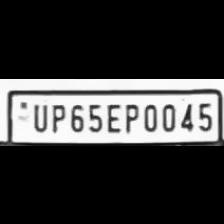0: (140, 100, 158, 132), (158, 99, 176, 130)
4: (176, 98, 194, 130)
5: (84, 100, 104, 132), (193, 98, 213, 130)
6: (66, 100, 86, 132)
E: (102, 100, 122, 132)
P: (48, 101, 65, 133), (122, 100, 139, 132)
U: (28, 100, 48, 132)
